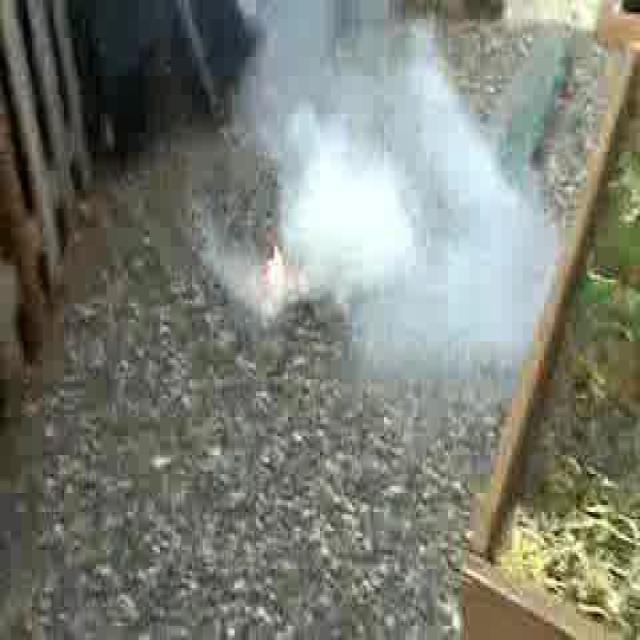Smoke: (188, 0, 562, 403)
